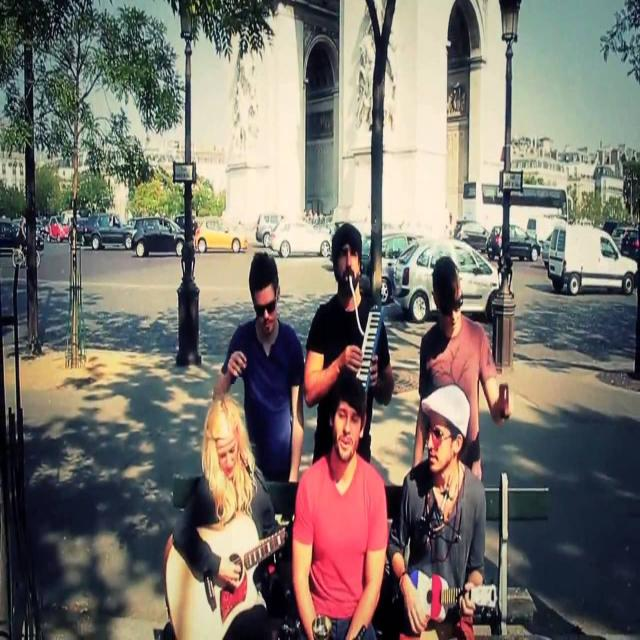body: (172, 393, 296, 639), (288, 366, 389, 639), (387, 383, 488, 639), (410, 253, 512, 484), (302, 220, 396, 470), (210, 248, 308, 486), (15, 212, 33, 270), (445, 82, 469, 121), (301, 208, 335, 228), (192, 213, 200, 256), (108, 212, 121, 234), (493, 227, 502, 247), (154, 208, 160, 217)
